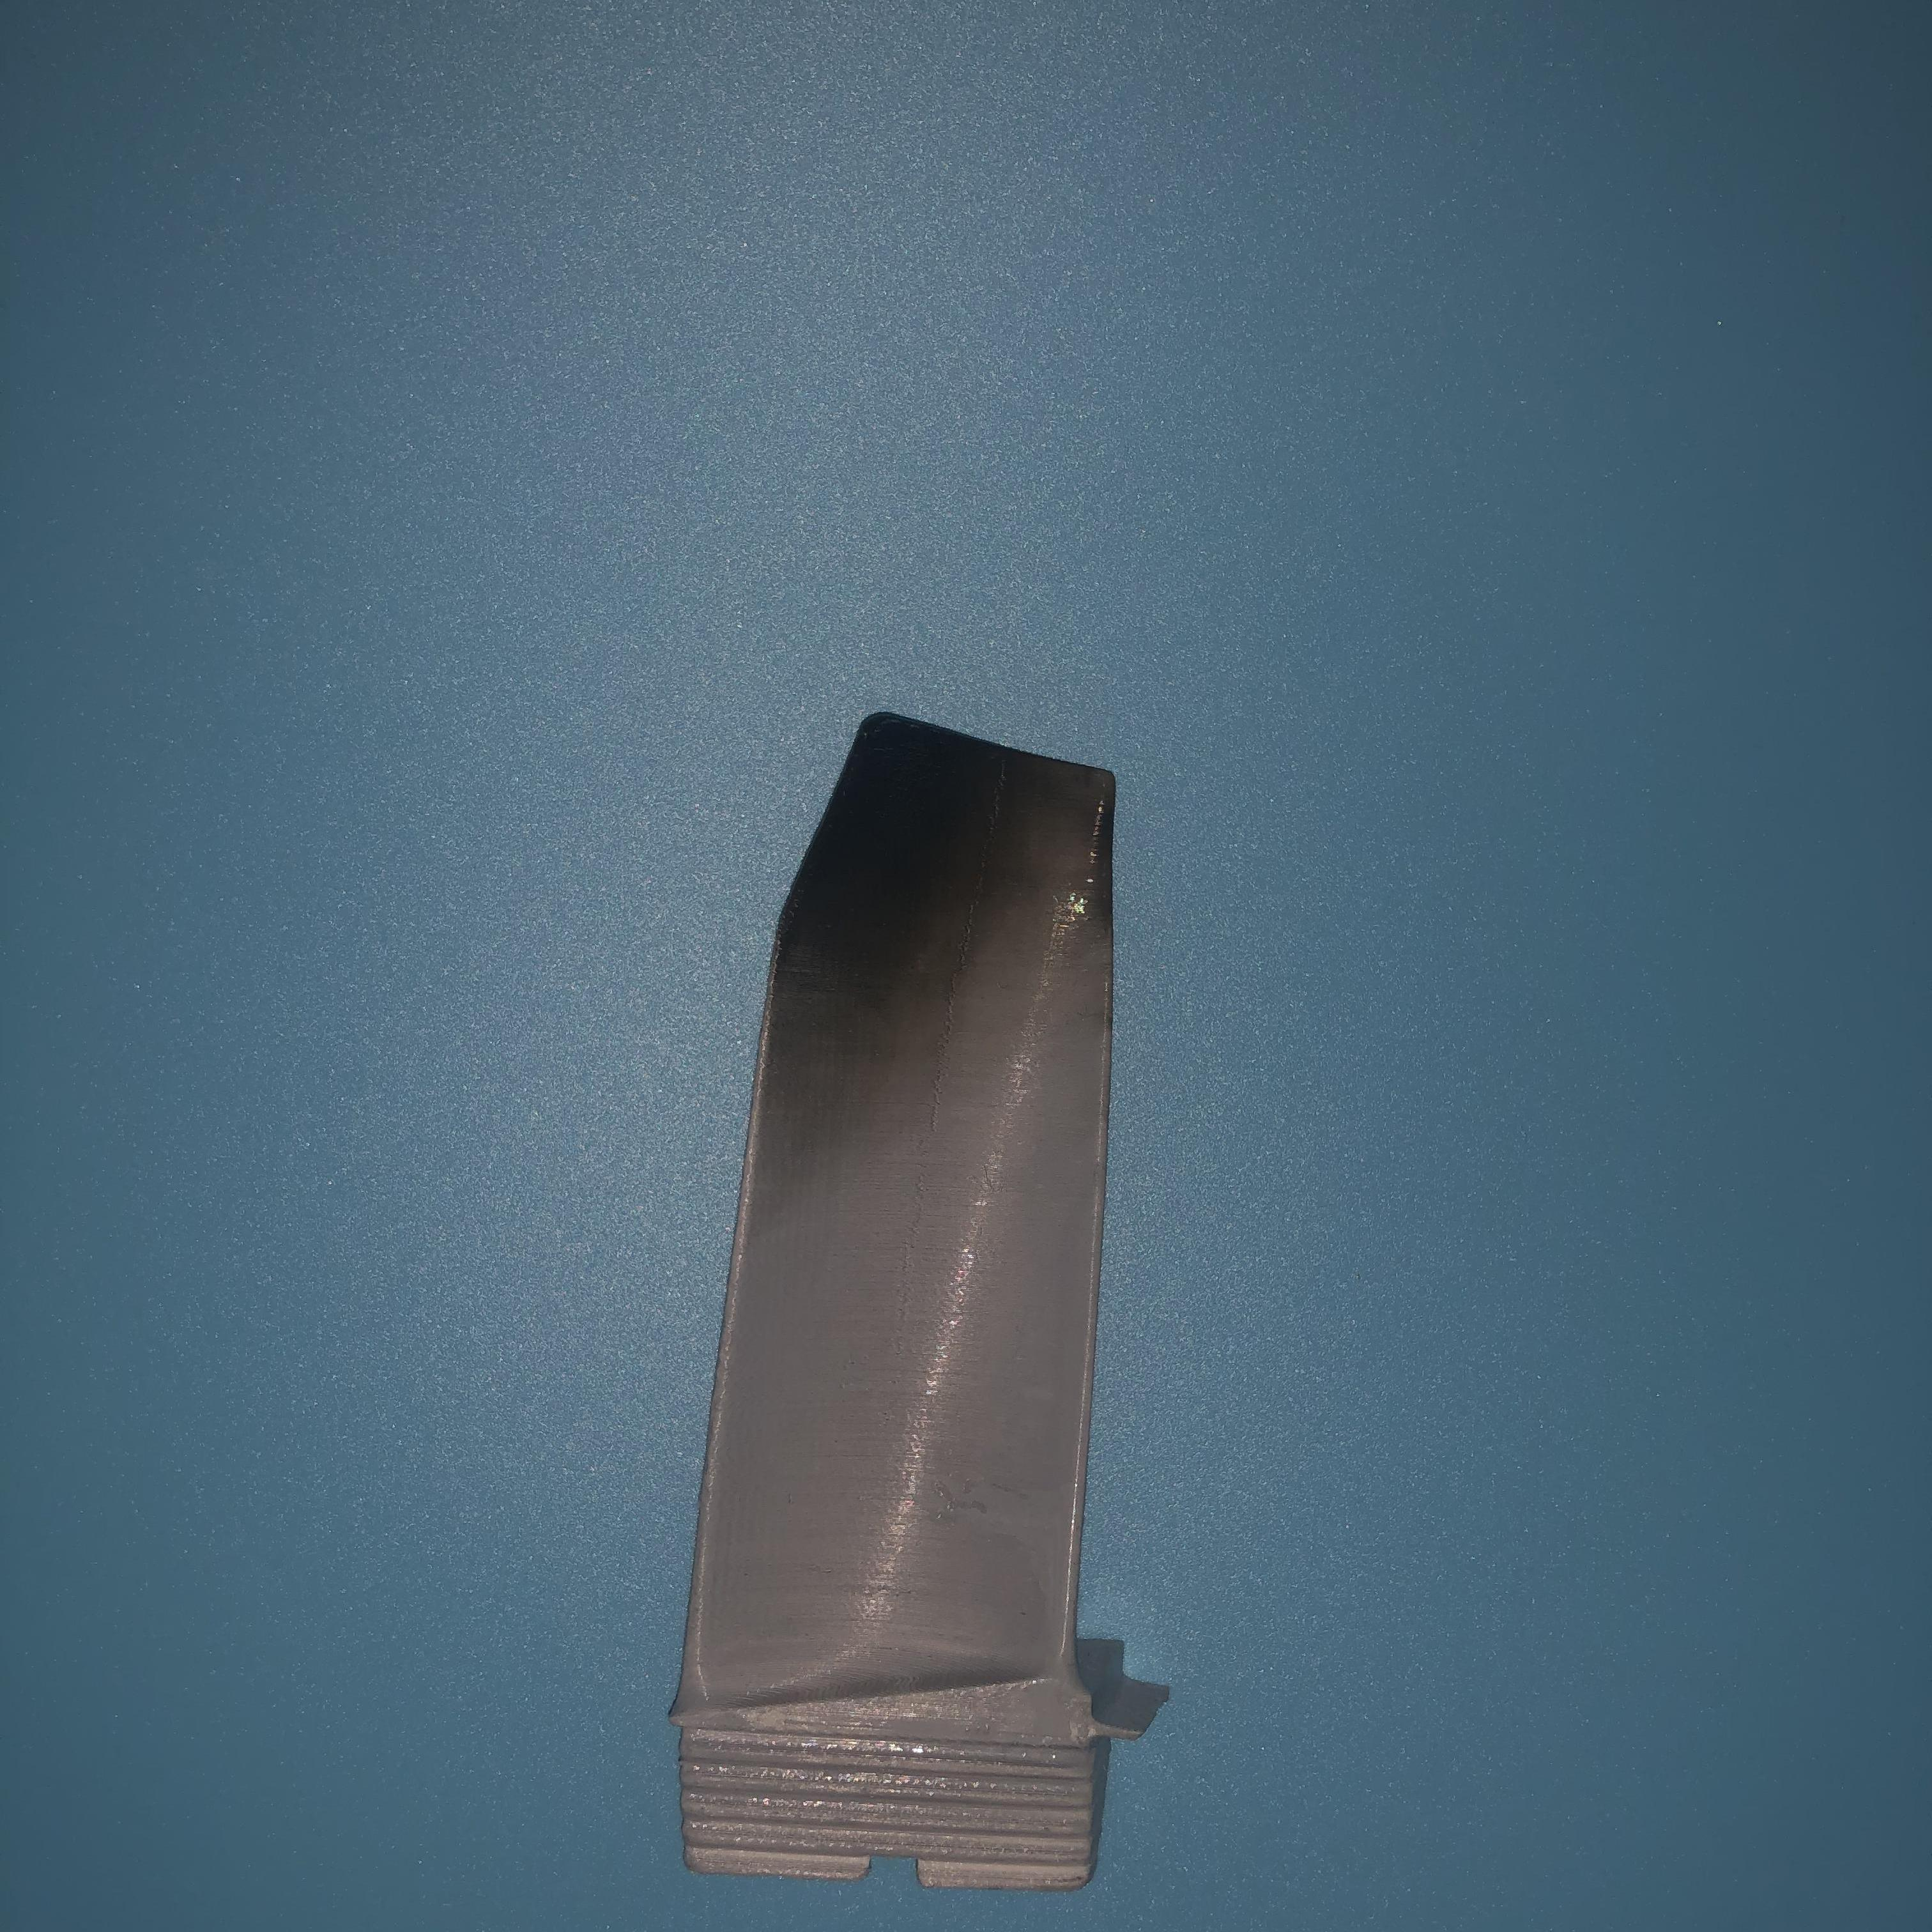ablation: (793, 734, 1099, 1113)
